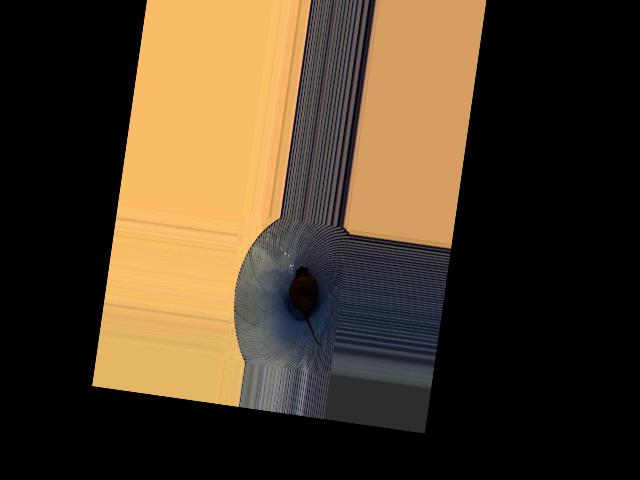beet: (282, 264, 332, 345)
